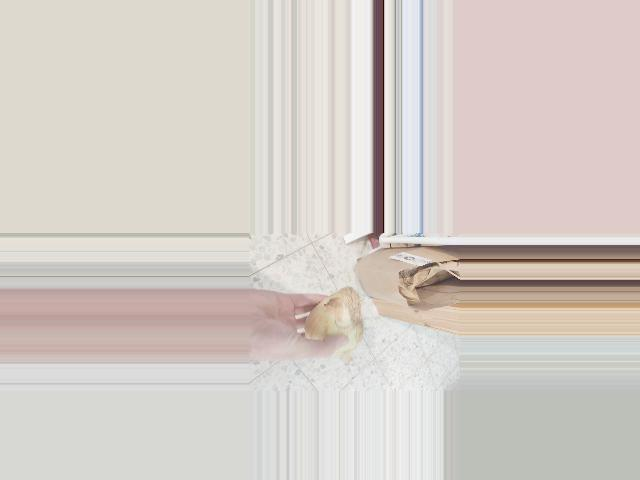onion: (298, 287, 373, 358)
